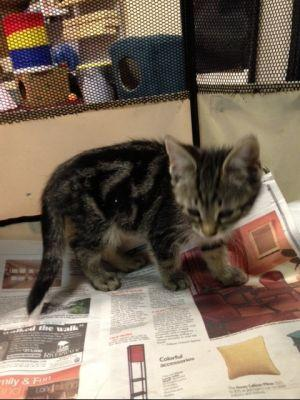bengal: (151, 127, 271, 243)
